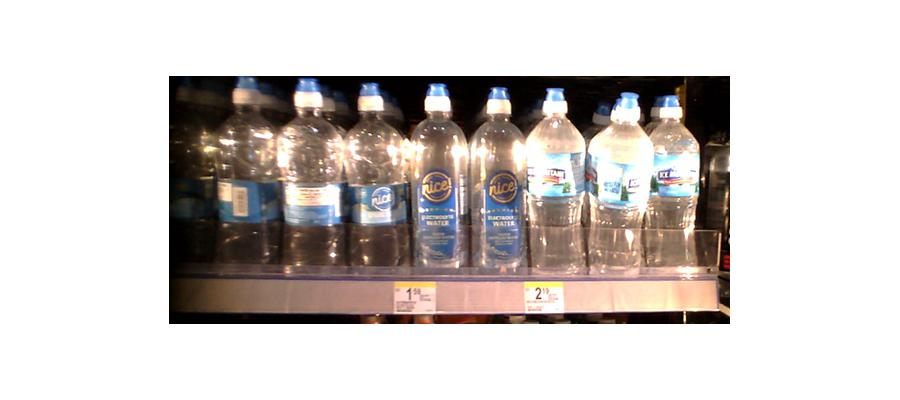bottle: (214, 77, 282, 266), (586, 92, 653, 278), (280, 81, 343, 274), (343, 86, 409, 270), (527, 91, 588, 275), (410, 86, 468, 273), (471, 89, 527, 274), (651, 93, 699, 271), (171, 101, 209, 263)
